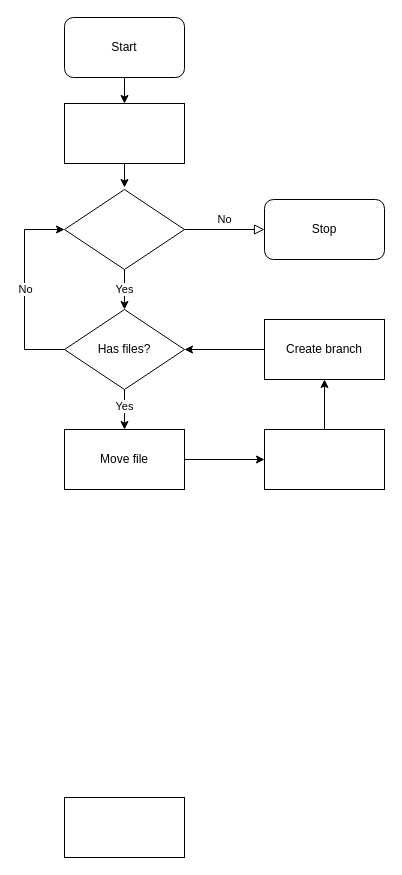
Some shapes in this 402 by 875 pixel diagram are drawn without their labels. Here are the shapes that lost their labels. From the top down, the centre of each, then its label:
[124,133]: Get Paths
[124,229]: Has paths?
[324,459]: Prepare batch
